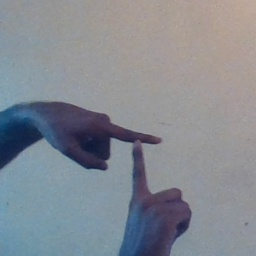T: (76, 110, 192, 213)
